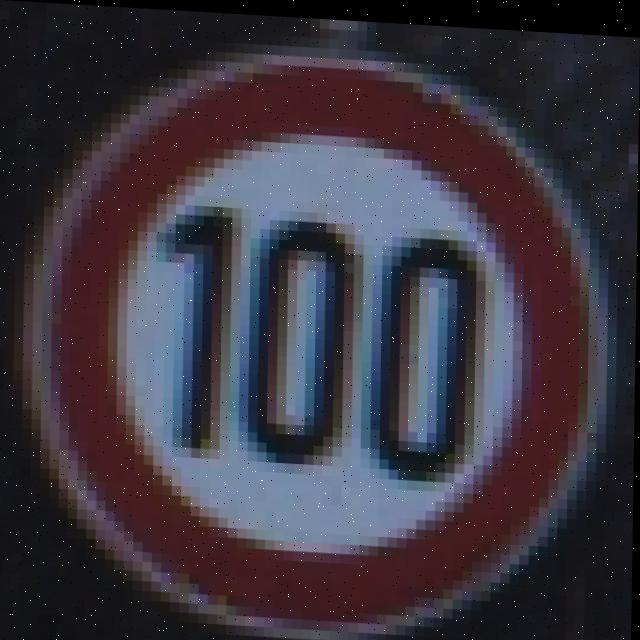speed_limit_100: (57, 49, 632, 640)
